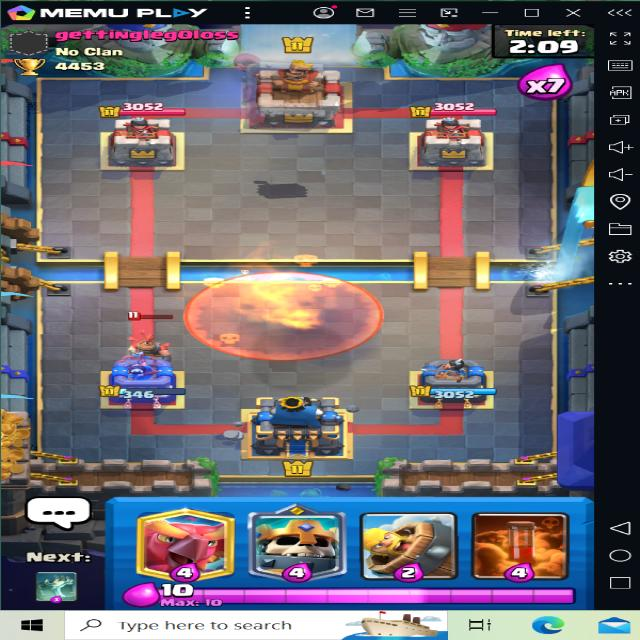poison: (196, 264, 379, 363)
royal-delivery: (239, 166, 335, 213)
royal-recruits: (121, 319, 174, 369)
